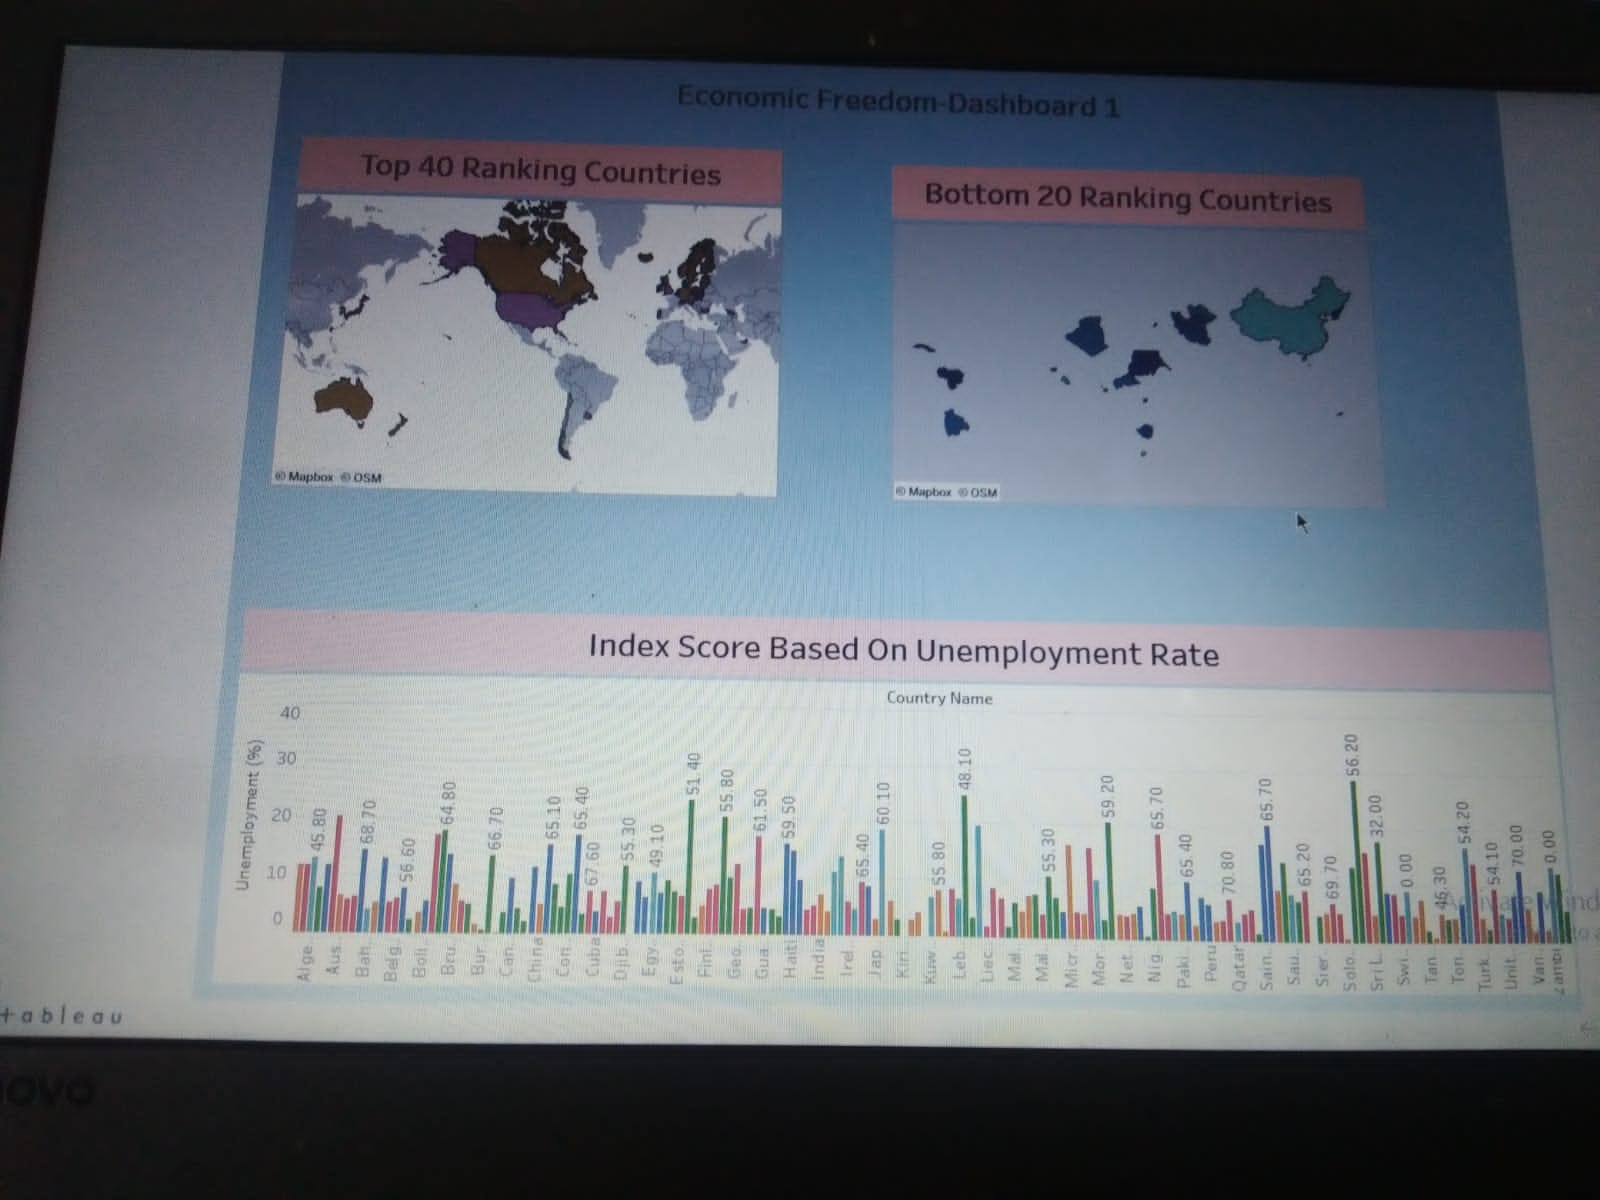

This screenshot's page, from the dashboard's own definition file:
{"tool":"tableau","page":{"name":"Dashboard 1","canvas":[1000,800],"ordinal":0},"visuals":[{"type":"title","box":[8,8,984,41]},{"type":"worksheet","title":"Top 40 Ranking countries","mark":"Automatic","box":[22,75,384,290]},{"type":"worksheet","title":"Bottom 20 Ranking countries","mark":"Automatic","box":[494,85,385,281]},{"type":"worksheet","title":"Index score based on unemployment rate","mark":"Automatic","rows":["Unemployment (%)"],"cols":["Country Name"],"box":[13,459,984,270]}]}

Visuals, with their boxes on the page's 1000x800 design canvas (x1, y1, x2, y2). These are canvas units, not pixel positions in the 1600x1200 screenshot, which may show the page scaled, cropped or inside an application window:
title: detection(8, 8, 992, 49)
"Top 40 Ranking countries" worksheet: detection(22, 75, 406, 365)
"Bottom 20 Ranking countries" worksheet: detection(494, 85, 879, 366)
"Index score based on unemployment rate" worksheet: detection(13, 459, 997, 729)
